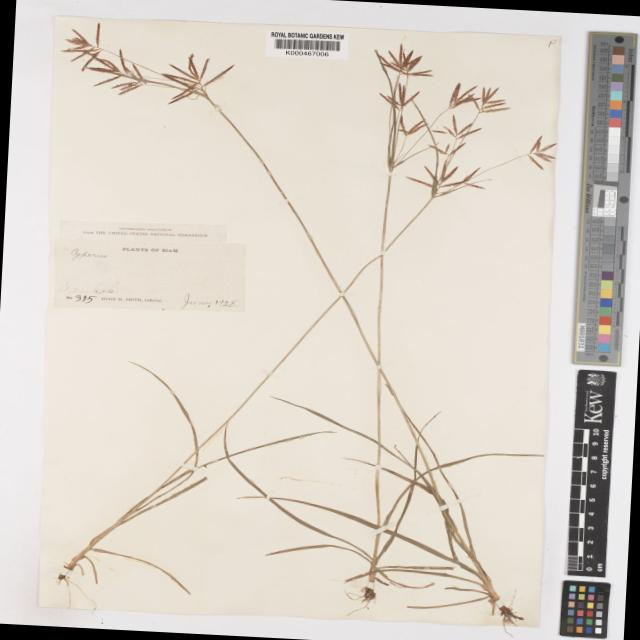cyperus: (56, 18, 242, 118), (414, 76, 556, 202), (371, 40, 492, 170)
